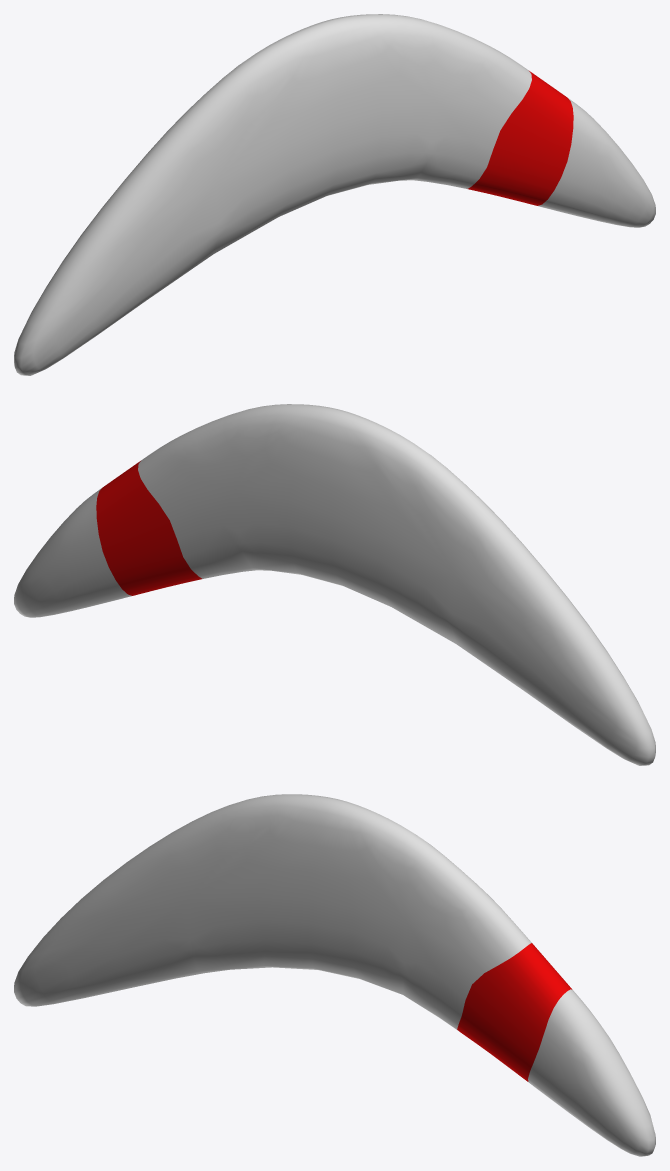
File: Boomerang.glb
3 views of the same model, one above another, from view 1: azimuth 30°, elevation 25°; view 2: azimuth 150°, elevation 25°; view 3: azimuth 330°, elevation 25° (orthographic).
Visible parts, largest first — view 1: 立方体.003; view 2: 立方体.003; view 3: 立方体.003.
Part boxes in pixels (x1=…): 立方体.003: x1=14, y1=14, x2=655, y2=375; 立方体.003: x1=14, y1=404, x2=655, y2=765; 立方体.003: x1=14, y1=794, x2=655, y2=1156.
Size of the model in its own units: 1.84 by 0.7689 by 0.1464.
